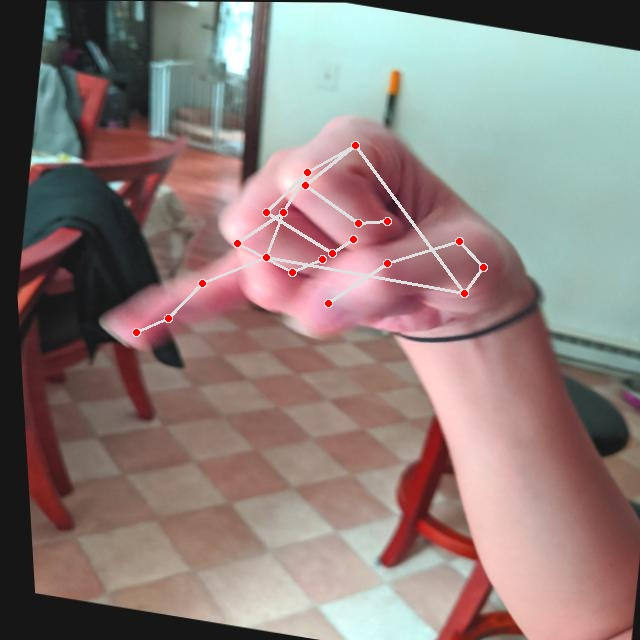J: (68, 64, 574, 424)
